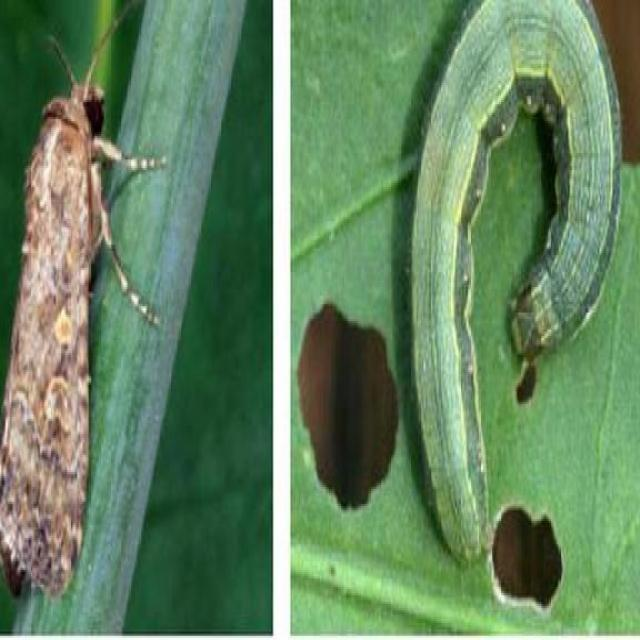BeetArmyWorm-Adult-: (0, 17, 134, 599)
BeetArmyWorm-Larva-: (397, 1, 629, 574)
